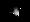person: (10, 8, 19, 19)
